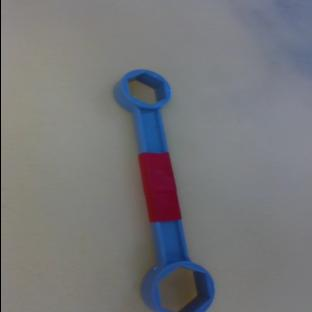part_3_good: (93, 63, 218, 312)
